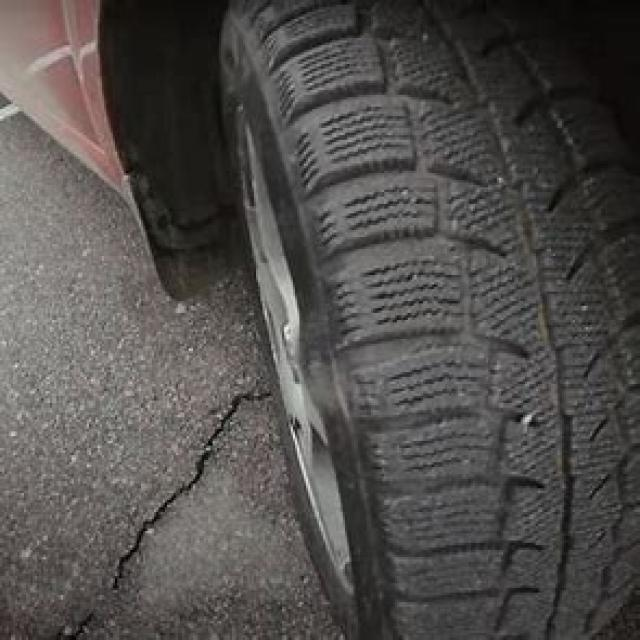Bulge: (283, 286, 355, 441)
